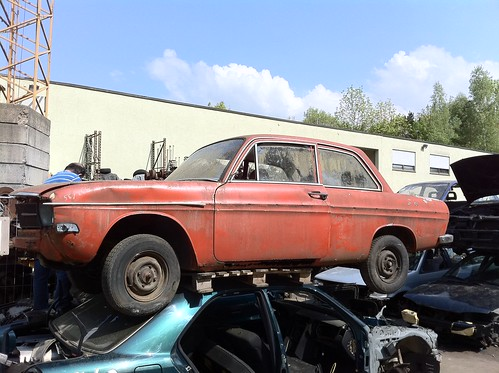car: (14, 138, 442, 306)
sky: (61, 1, 499, 101)
